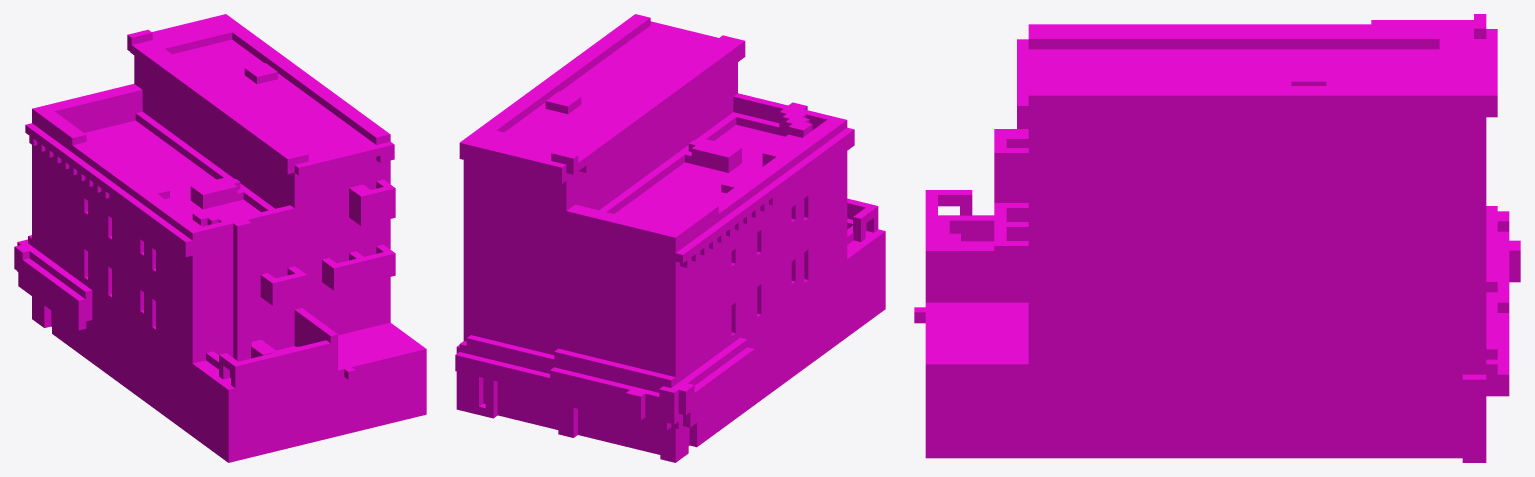
3 views of the same model, side by side, from view 1: azimuth 30°, elevation 25°; view 2: azimuth 150°, elevation 25°; view 3: azimuth 270°, elevation 25° (orthographic). The views are drawn at different scales.
Parts seen in each view (by area): view 1: col_wall_05, col_wall_07, col_wall_69, col_wall_68, col_wall_09, col_wall_04, col_wall_28, col_wall_03, col_wall_02, col_wall_33, col_wall_52, col_wall_36 (+67 smaller); view 2: col_wall_51, col_wall_76, col_wall_56, col_roof_51, col_wall_04, col_wall_03, col_wall_20, col_wall_02, col_wall_52, col_wall_55, col_roof_81, col_roof_48 (+73 smaller); view 3: col_wall_10, col_wall_11, col_wall_49, col_wall_12, col_wall_48, col_wall_50, col_wall_74, col_wall_73, col_wall_75, col_wall_13, col_wall_37, col_wall_71 (+33 smaller).
Boxes of the visible parts, box(x1,y1,x2,y2) form: col_wall_05: box(235, 372, 303, 460); col_wall_07: box(303, 359, 371, 444); col_wall_69: box(264, 198, 335, 278); col_wall_68: box(196, 212, 267, 296); col_wall_09: box(368, 347, 419, 427); col_wall_04: box(172, 349, 218, 450); col_wall_28: box(199, 282, 267, 361); col_wall_03: box(132, 320, 172, 421); col_wall_02: box(92, 291, 132, 391); col_wall_33: box(267, 267, 335, 350); col_wall_52: box(52, 181, 87, 277); col_wall_36: box(335, 254, 383, 335); col_wall_51: box(602, 282, 680, 376); col_wall_76: box(602, 216, 680, 300); col_wall_56: box(493, 217, 558, 310); col_roof_51: box(493, 143, 558, 232); col_wall_04: box(825, 242, 868, 352); col_wall_03: box(783, 276, 825, 383); col_wall_20: box(493, 294, 558, 354); col_wall_02: box(740, 307, 782, 415); col_wall_52: box(697, 259, 731, 360); col_wall_55: box(757, 207, 791, 306); col_roof_81: box(585, 49, 684, 94); col_roof_48: box(610, 94, 660, 196); col_wall_10: box(1348, 354, 1463, 458); col_wall_11: box(1234, 354, 1349, 458); col_wall_49: box(1234, 250, 1349, 354); col_wall_12: box(1120, 354, 1234, 458); col_wall_48: box(1348, 250, 1463, 354); col_wall_50: box(1120, 250, 1234, 354); col_wall_74: box(1234, 147, 1349, 251); col_wall_73: box(1348, 147, 1463, 251); col_wall_75: box(1120, 147, 1234, 251); col_wall_13: box(1005, 359, 1120, 458); col_wall_37: box(1028, 261, 1120, 365); col_wall_71: box(1028, 157, 1120, 261).
Size of the model in its own units: 13.32 by 15.22 by 22.44.
